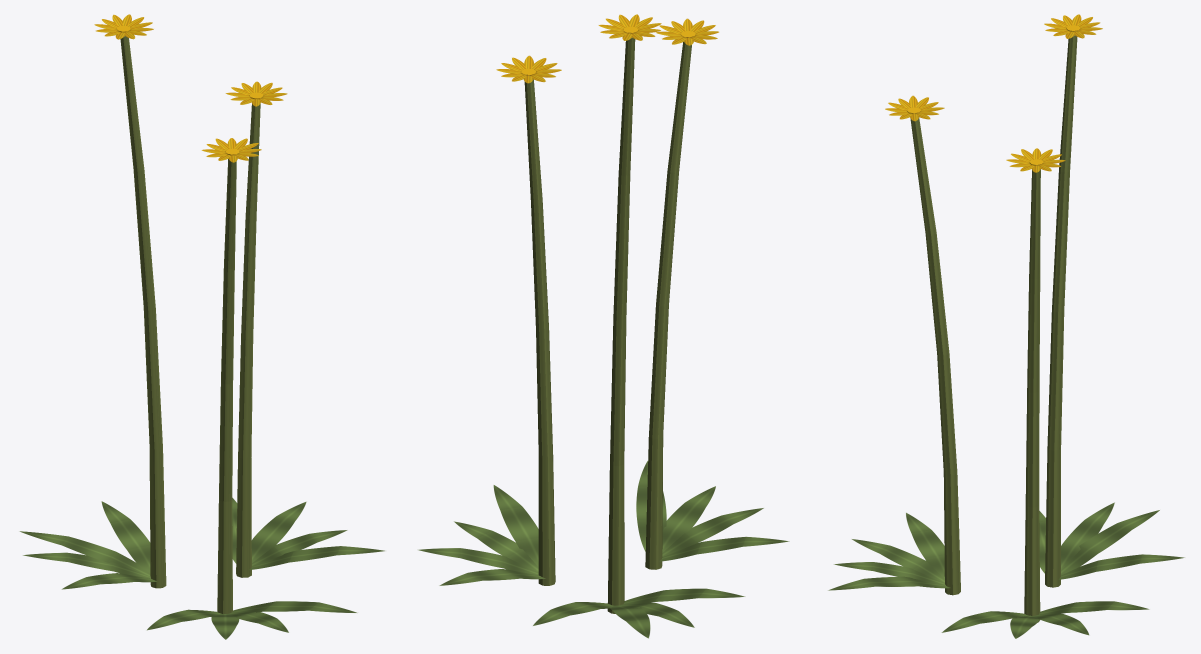
Rendered from savanna_sunflower_v01.glb.
The picture shows the model from 3 angles, left to right: view 1: azimuth 30°, elevation 25°; view 2: azimuth 150°, elevation 25°; view 3: azimuth 270°, elevation 25°; orthographic projection. The views are drawn at different scales.
Visible parts, largest first — view 1: savanna_sunflower_v01; view 2: savanna_sunflower_v01; view 3: savanna_sunflower_v01.
Boxes of the visible parts, <box> form: savanna_sunflower_v01: <box>19,14,384,639</box>; savanna_sunflower_v01: <box>418,14,789,638</box>; savanna_sunflower_v01: <box>828,14,1184,638</box>.
Size of the model in its own units: 0.5832 by 1.07 by 0.6495.
3 materials, 3 textured.
